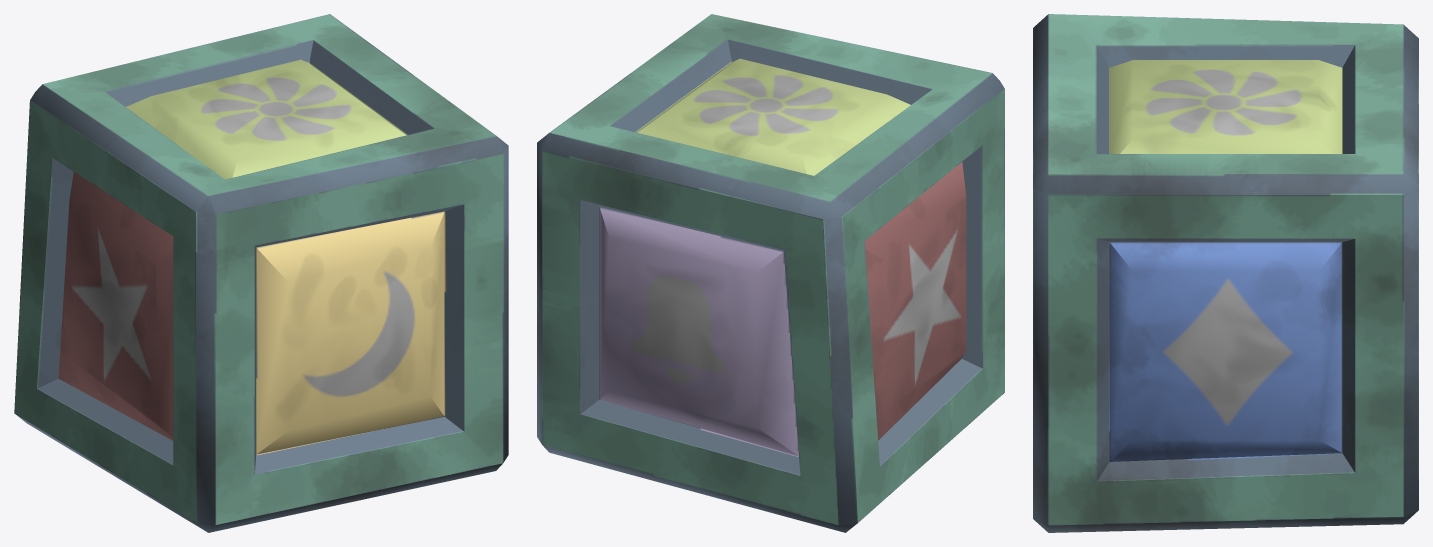
The model's file is LightCube.fbx.
3 renders of one model, left to right at view 1: azimuth 30°, elevation 25°; view 2: azimuth 150°, elevation 25°; view 3: azimuth 270°, elevation 25°, orthographic. The views are drawn at different scales.
Visible parts, largest first — view 1: LightCube; view 2: LightCube; view 3: LightCube.
Boxes of the visible parts, left/top/right/bottom form: LightCube: left=14, top=14, right=508, bottom=532; LightCube: left=537, top=14, right=1004, bottom=532; LightCube: left=1033, top=14, right=1418, bottom=532.
Bounding box in the file's own units: 210 × 211 × 200.
1 material, 1 textured.
